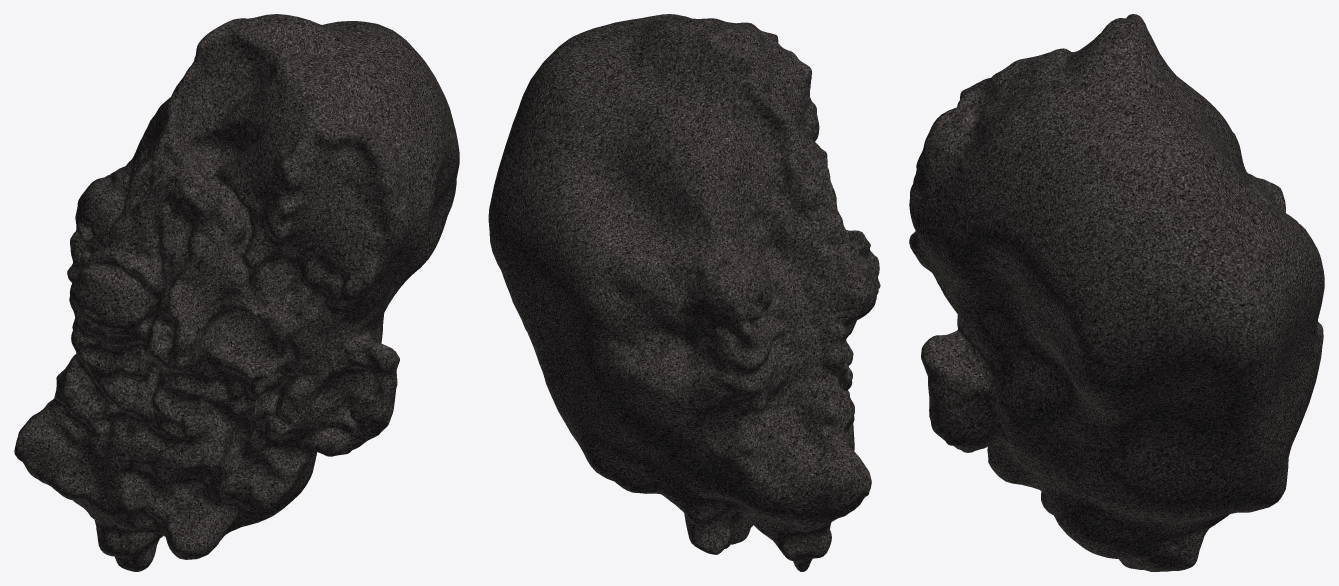
File: kooning.glb
3 renders of one model, left to right at view 1: azimuth 30°, elevation 25°; view 2: azimuth 150°, elevation 25°; view 3: azimuth 270°, elevation 25°, orthographic. The views are drawn at different scales.
Visible parts, largest first — view 1: Sphere; view 2: Sphere; view 3: Sphere.
Part boxes in pixels (bbox=[...]): Sphere: bbox=[14, 14, 459, 571]; Sphere: bbox=[488, 14, 880, 571]; Sphere: bbox=[909, 14, 1324, 571].
Bounding box in the file's own units: 7.14 × 9.18 × 6.03.
1 material, 1 textured.
